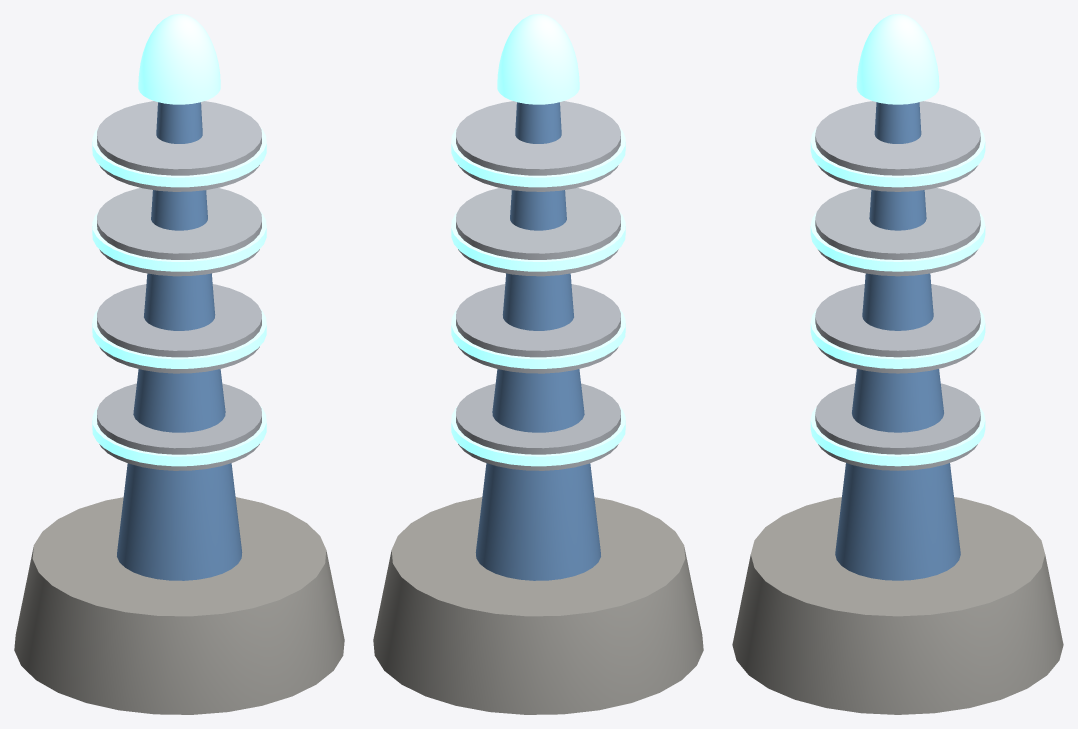
The model's file is gagap.glb.
The picture shows the model from 3 angles, left to right: view 1: azimuth 30°, elevation 25°; view 2: azimuth 150°, elevation 25°; view 3: azimuth 270°, elevation 25°; orthographic projection.
Parts seen in each view (by area): view 1: Hull; view 2: Hull; view 3: Hull.
Boxes of the visible parts, x1,y1,x2,y2 form: Hull: (14, 14, 344, 714); Hull: (373, 14, 703, 714); Hull: (732, 14, 1063, 714).
Size of the model in its own units: 1.3 by 2.72 by 1.3.
